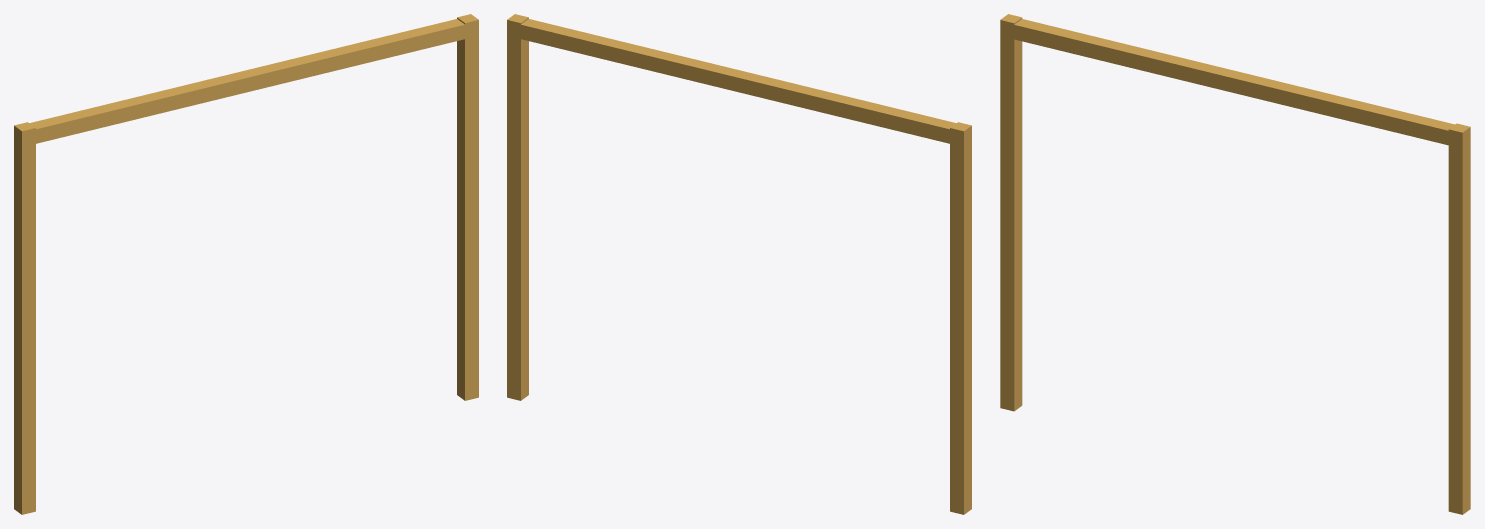
File: railway-0-0.glb
3 views of the same model, side by side, from view 1: azimuth 30°, elevation 25°; view 2: azimuth 150°, elevation 25°; view 3: azimuth 330°, elevation 25° (orthographic).
Parts seen in each view (by area): view 1: railway-0-0; view 2: railway-0-0; view 3: railway-0-0.
Part boxes in pixels (bbox=[...]): railway-0-0: bbox=[14, 14, 478, 514]; railway-0-0: bbox=[507, 14, 971, 514]; railway-0-0: bbox=[1000, 14, 1470, 514].
Bounding box in the file's own units: 16.5 × 13.24 × 0.5.
